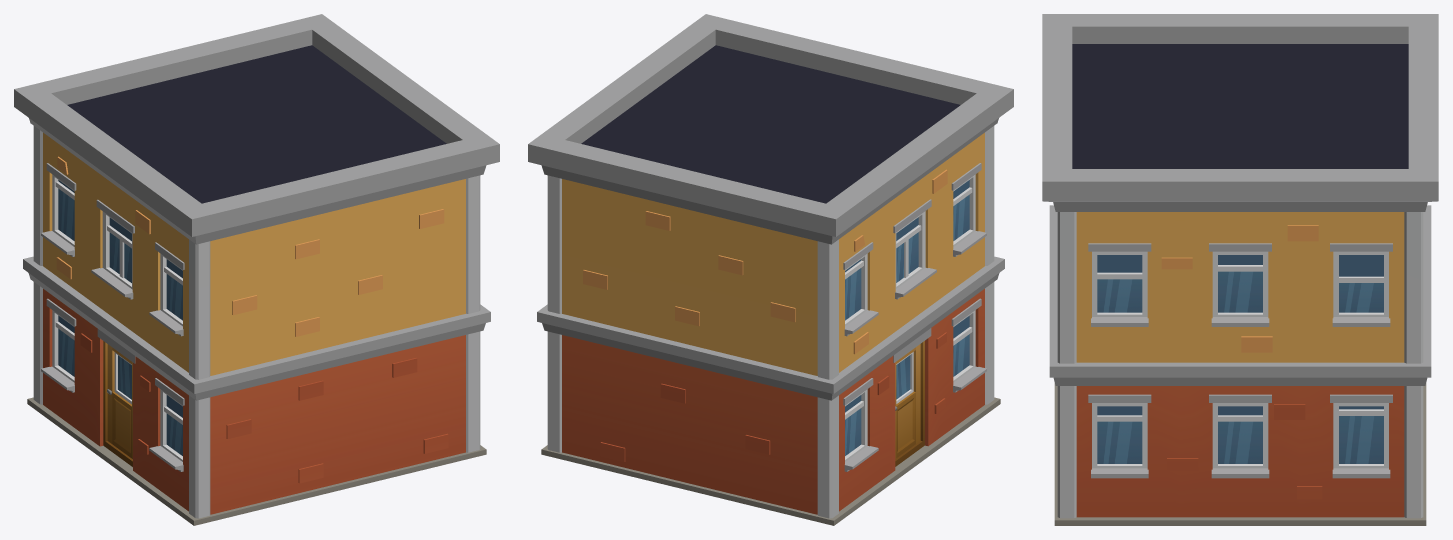
The model's file is Building_2_3_E.fbx.
3 views of the same model, side by side, from view 1: azimuth 30°, elevation 25°; view 2: azimuth 150°, elevation 25°; view 3: azimuth 270°, elevation 25° (orthographic). The views are drawn at different scales.
Parts seen in each view (by area): view 1: Building_2_3_E; view 2: Building_2_3_E; view 3: Building_2_3_E.
Boxes of the visible parts, x1,y1,x2,y2 form: Building_2_3_E: [14, 14, 499, 525]; Building_2_3_E: [528, 14, 1013, 525]; Building_2_3_E: [1042, 14, 1438, 525].
Size of the model in its own units: 620 by 602 by 620.
